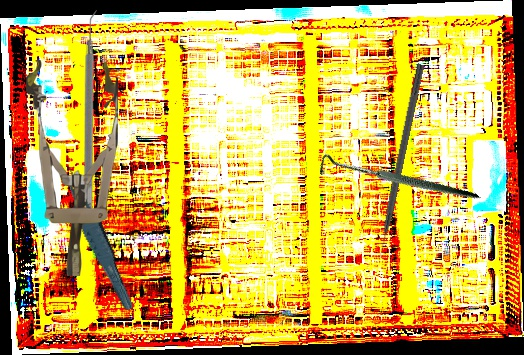Hook Surgical: (313, 101, 481, 264), (373, 63, 425, 259)
Spatula Surgical: (83, 10, 102, 234)
Speculum: (26, 60, 118, 276)
Tissue Forceps: (57, 154, 136, 316)
